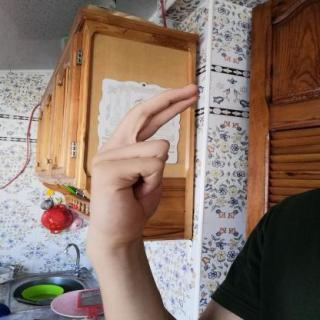ZAY: (80, 79, 208, 254)
